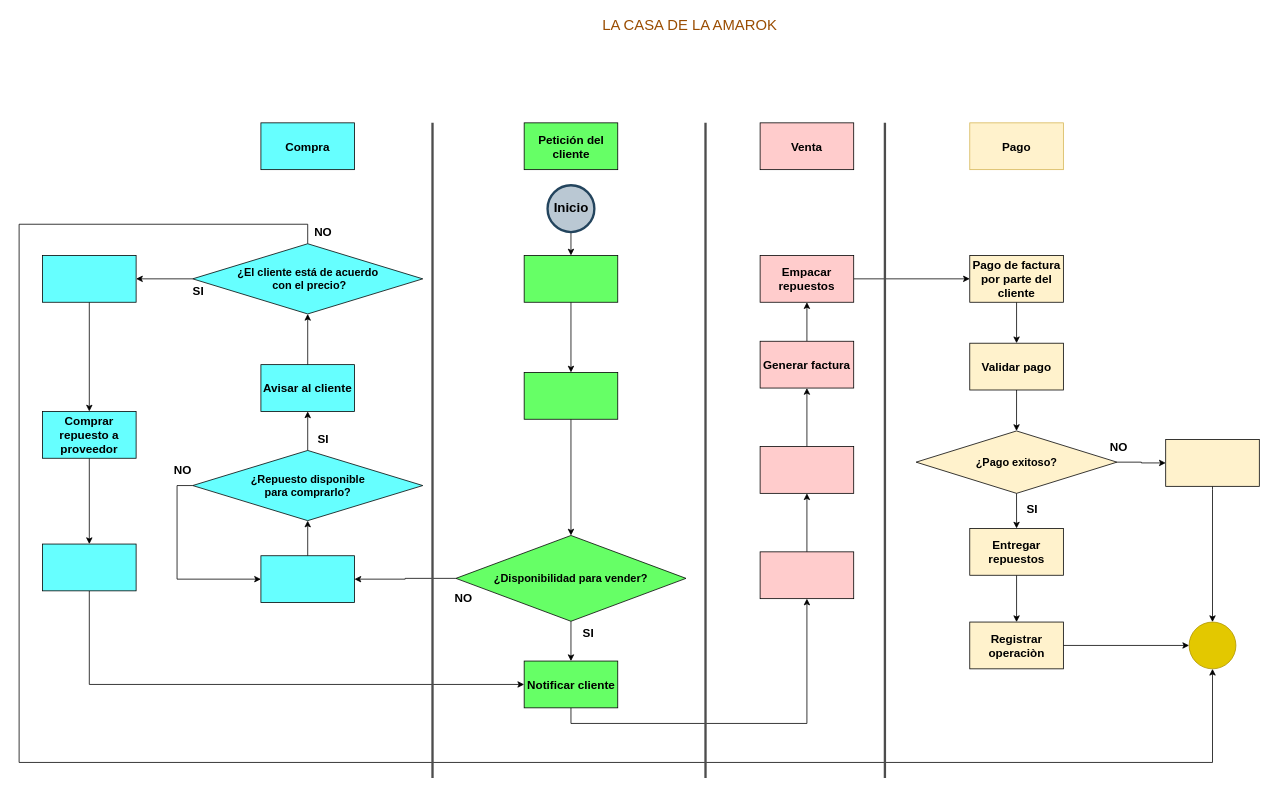
The diagram is 1273 pixels wide and 793 high, and some of its shapes have lost their labels. The centre of each missing label's shape, as x and y in pixels:
"Acordar abono o pago del repuesto" belongs at (89,278).
"Almacenar repuesto comprado" belongs at (89,567).
"Cancelar operación" belongs at (1212,462).
"Cotizar repuesto" belongs at (307,579).
"Enlistar repuestos" belongs at (806,575).
"Fin" belongs at (1212,645).
"Gestionar modo de pago" belongs at (806,469).
"Revisión pedido cliente" belongs at (570,278).
"Tomar datos cliente" belongs at (570,395).
